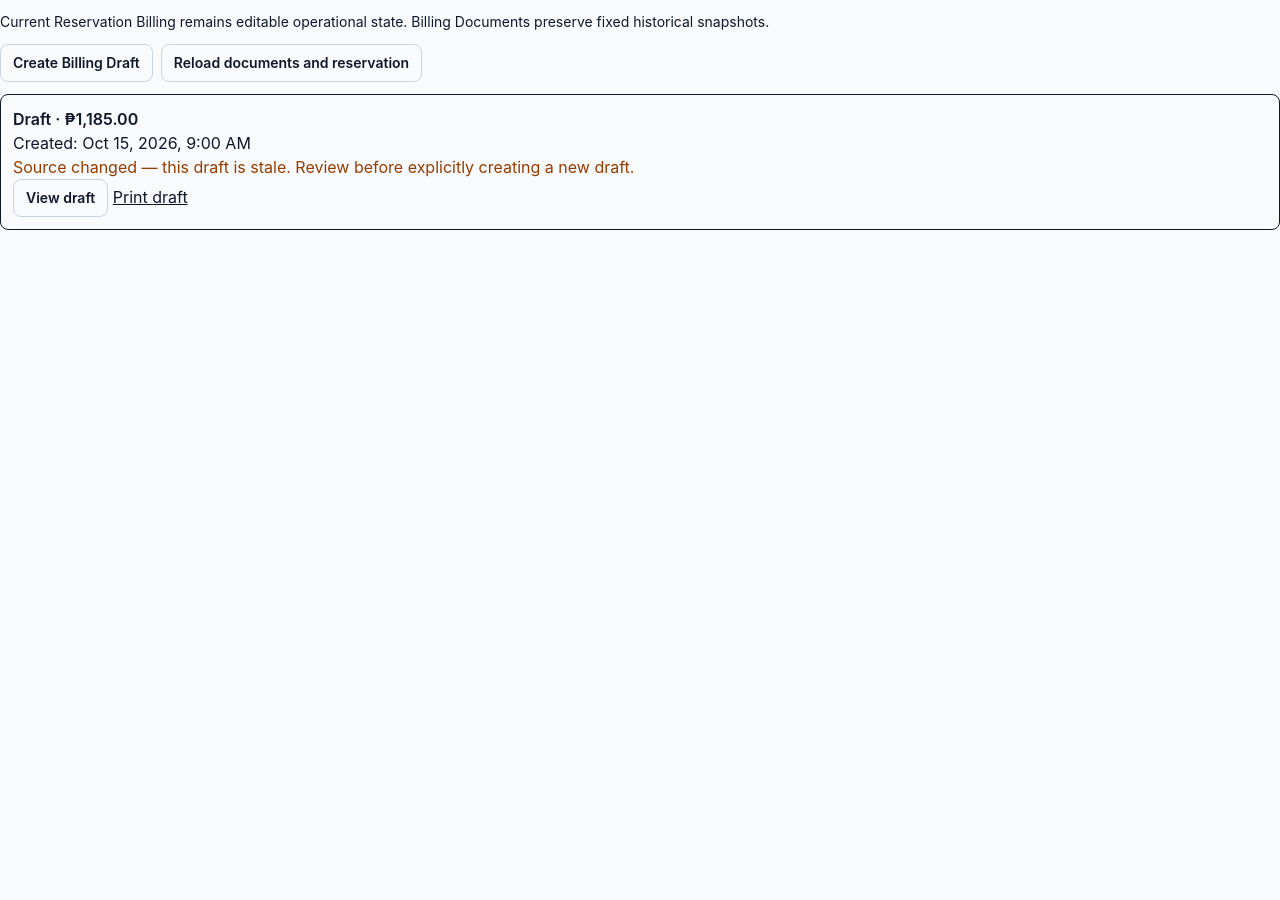
Test: billing documents original detail integration › marks stale drafts and shows differences from current live billing
The image size is (1280, 900).
Click the button "View draft". click: x=61, y=198
box: [13,179,108,217]
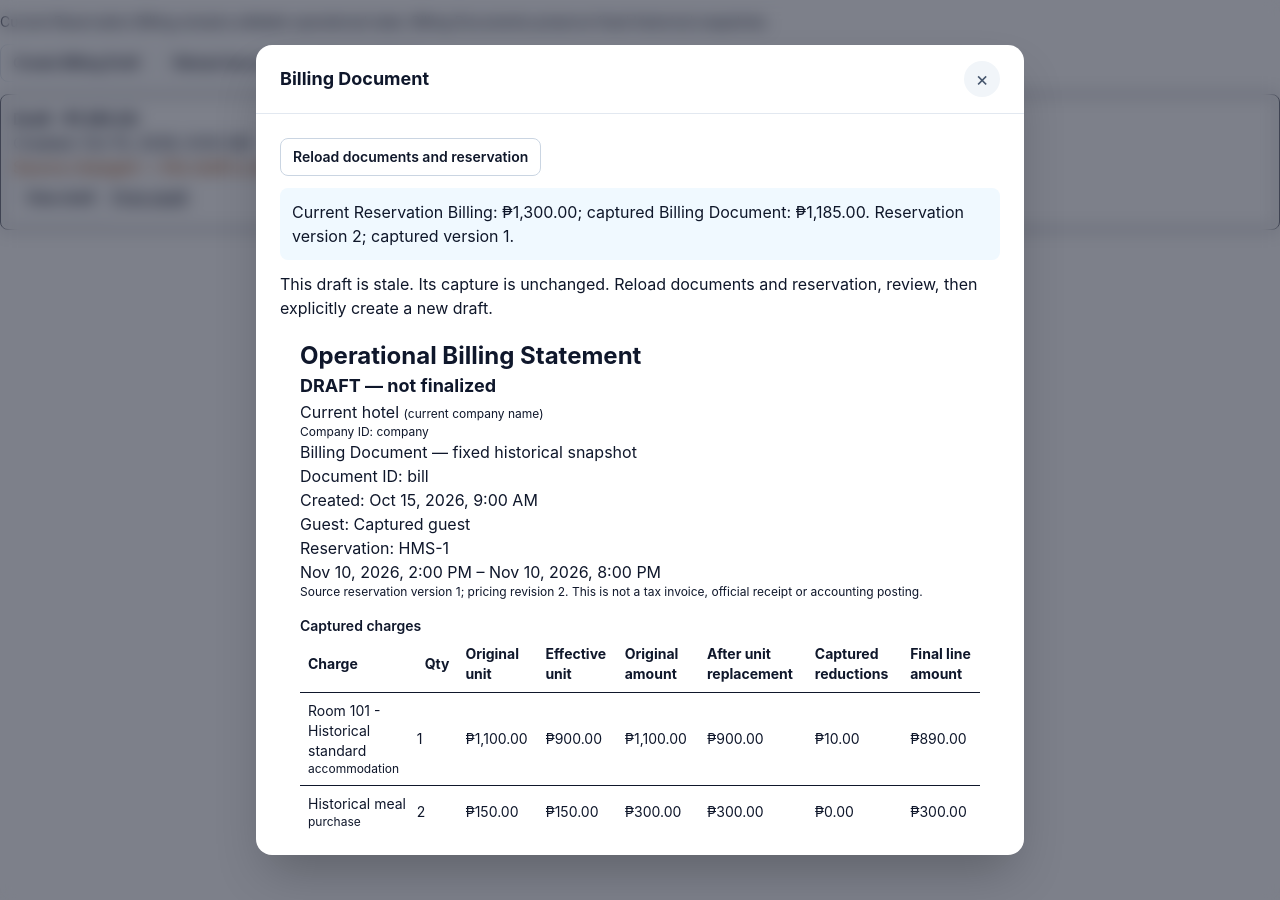
Expected: the button "Create Billing Draft" is enabled, [0,44,153,82]
Expected: the text "Current Reservation Billing:" shows "1,300.00", [502,202,577,222]
Expected: the text "Current Reservation Billing:" shows "1,185.00", [796,202,865,222]
